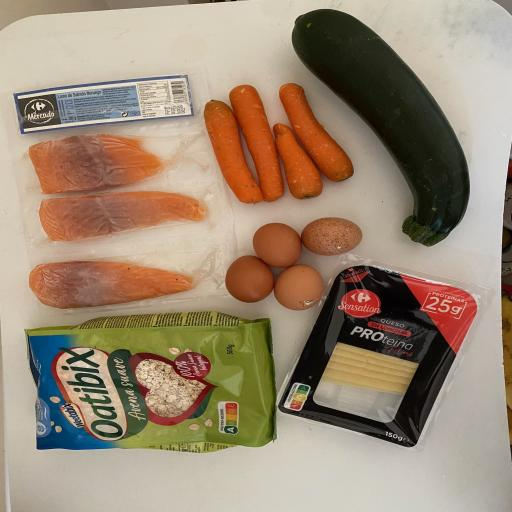carrot: (276, 79, 356, 185), (201, 96, 267, 205), (228, 80, 286, 202), (271, 120, 325, 200)
cheese: (278, 263, 482, 451)
courgette: (288, 6, 476, 249)
egg: (271, 263, 328, 314), (250, 219, 305, 270), (299, 214, 364, 257), (222, 254, 275, 304)
oat: (21, 312, 279, 458)
salmon: (26, 255, 198, 311), (37, 190, 211, 245), (28, 132, 166, 196)
